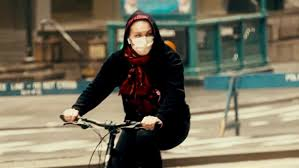mask: (126, 19, 155, 58)
